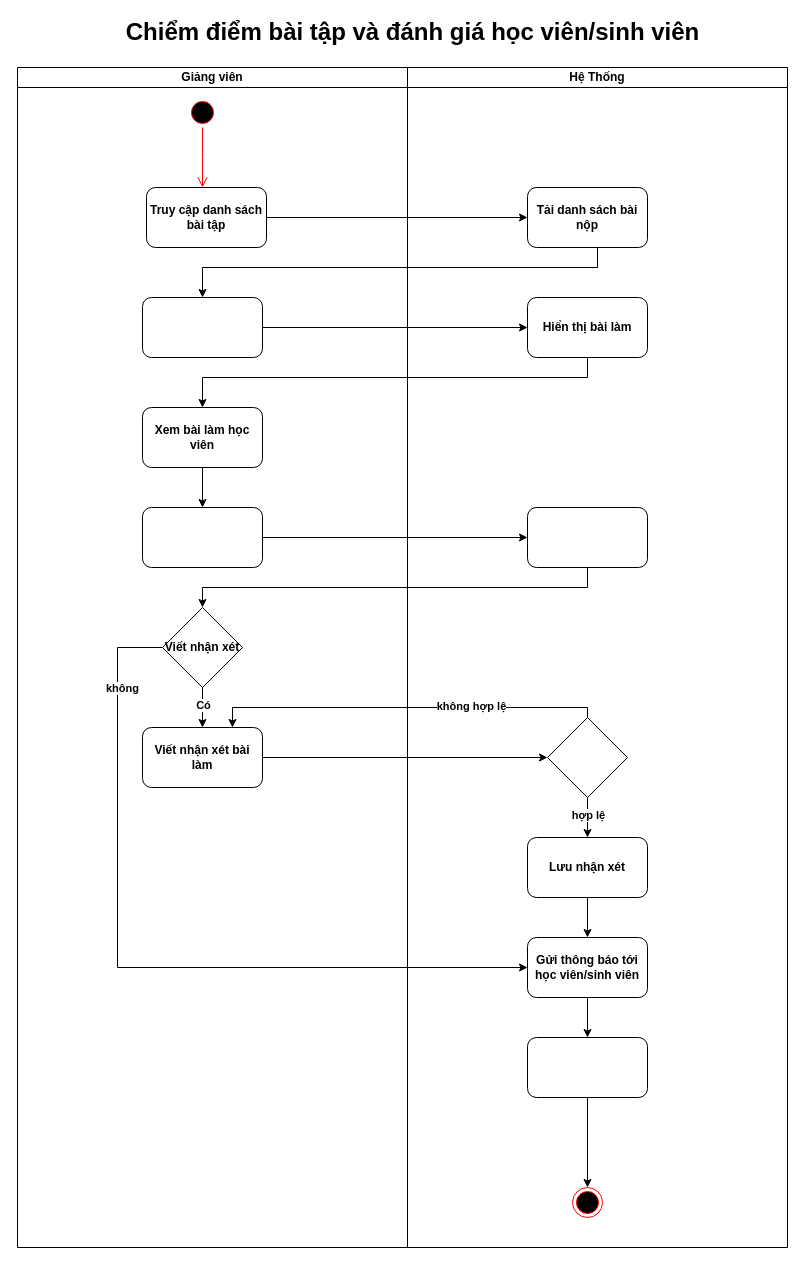
The diagram is 805 pixels wide and 1265 high, and some of its shapes have lost their labels. The centre of each missing label's shape, as x and y in pixels:
"Chấm điểm theo thang" goes at point (202, 537).
"Chọn bài tập cần chấm" goes at point (202, 327).
"Cập nhật tiến độ học tập" goes at point (587, 1067).
"Kiểm tra nhận xét" goes at point (587, 757).
"Lưu điểm" goes at point (587, 537).
